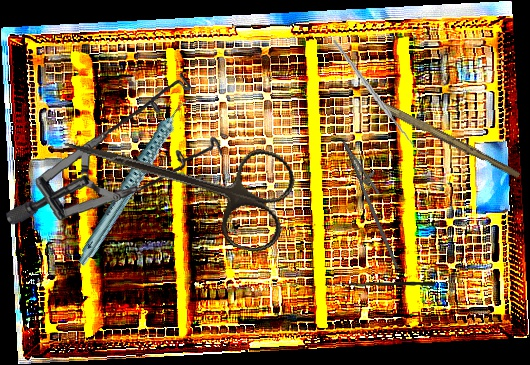Handpiece: (47, 94, 224, 268)
Hook Surgical: (331, 29, 430, 165), (324, 280, 436, 290)
Iris Scissors: (48, 99, 301, 258)
Needle Holder: (326, 134, 424, 270)
Scalpel Handle: (373, 99, 523, 180)
Speculum: (5, 58, 228, 241)
